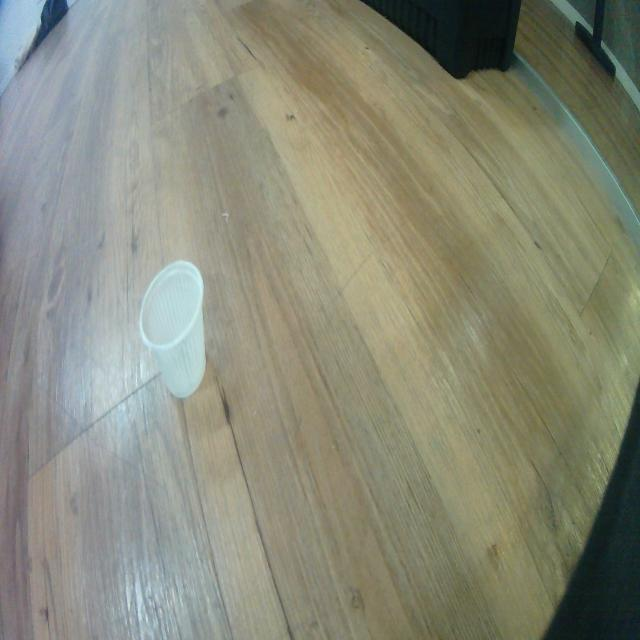planta: (140, 261, 207, 401)
